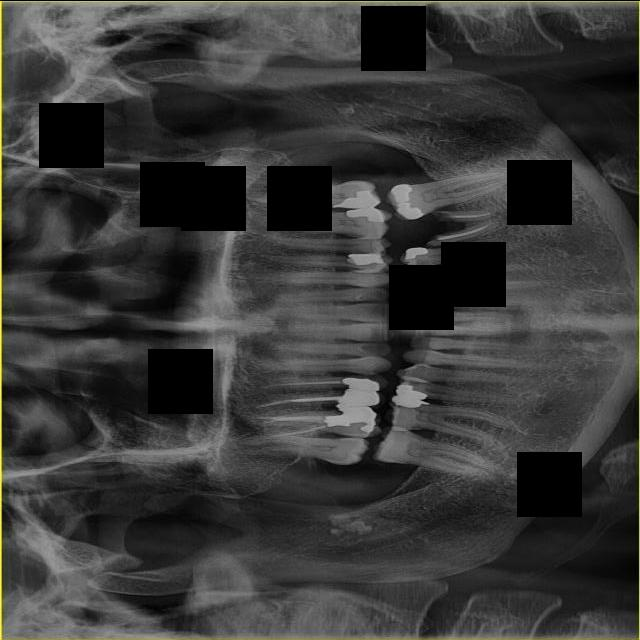71: (291, 395, 343, 402)
72: (431, 210, 493, 222)
74: (437, 223, 495, 241), (269, 424, 326, 438), (258, 414, 323, 422), (262, 414, 325, 422), (267, 379, 343, 385), (254, 398, 295, 407), (447, 212, 490, 219)
NucleOSS Implant: (324, 400, 379, 433), (330, 188, 381, 211), (394, 197, 426, 224), (345, 205, 388, 222), (389, 393, 432, 410), (340, 375, 382, 392), (344, 252, 384, 266), (396, 384, 429, 400), (390, 182, 415, 203), (405, 246, 428, 258)
Sterngold Implant: (433, 208, 458, 223), (426, 232, 437, 243), (408, 423, 423, 428), (328, 437, 345, 441)
Zimmer Implant: (340, 387, 385, 407)
